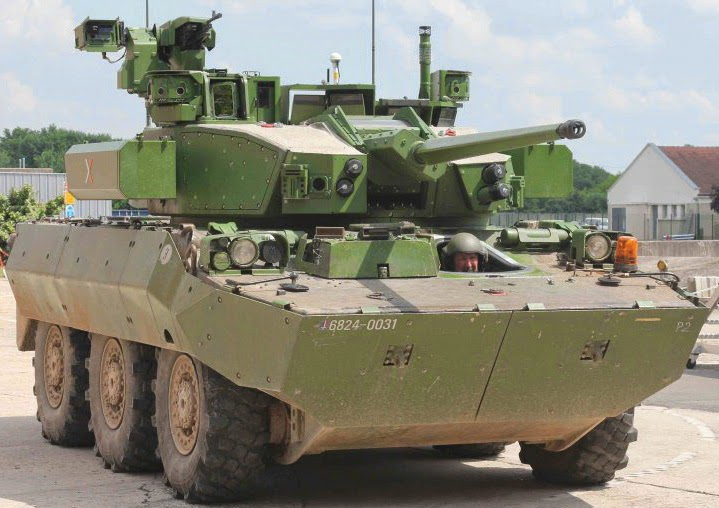license_plate: (326, 315, 400, 335)
